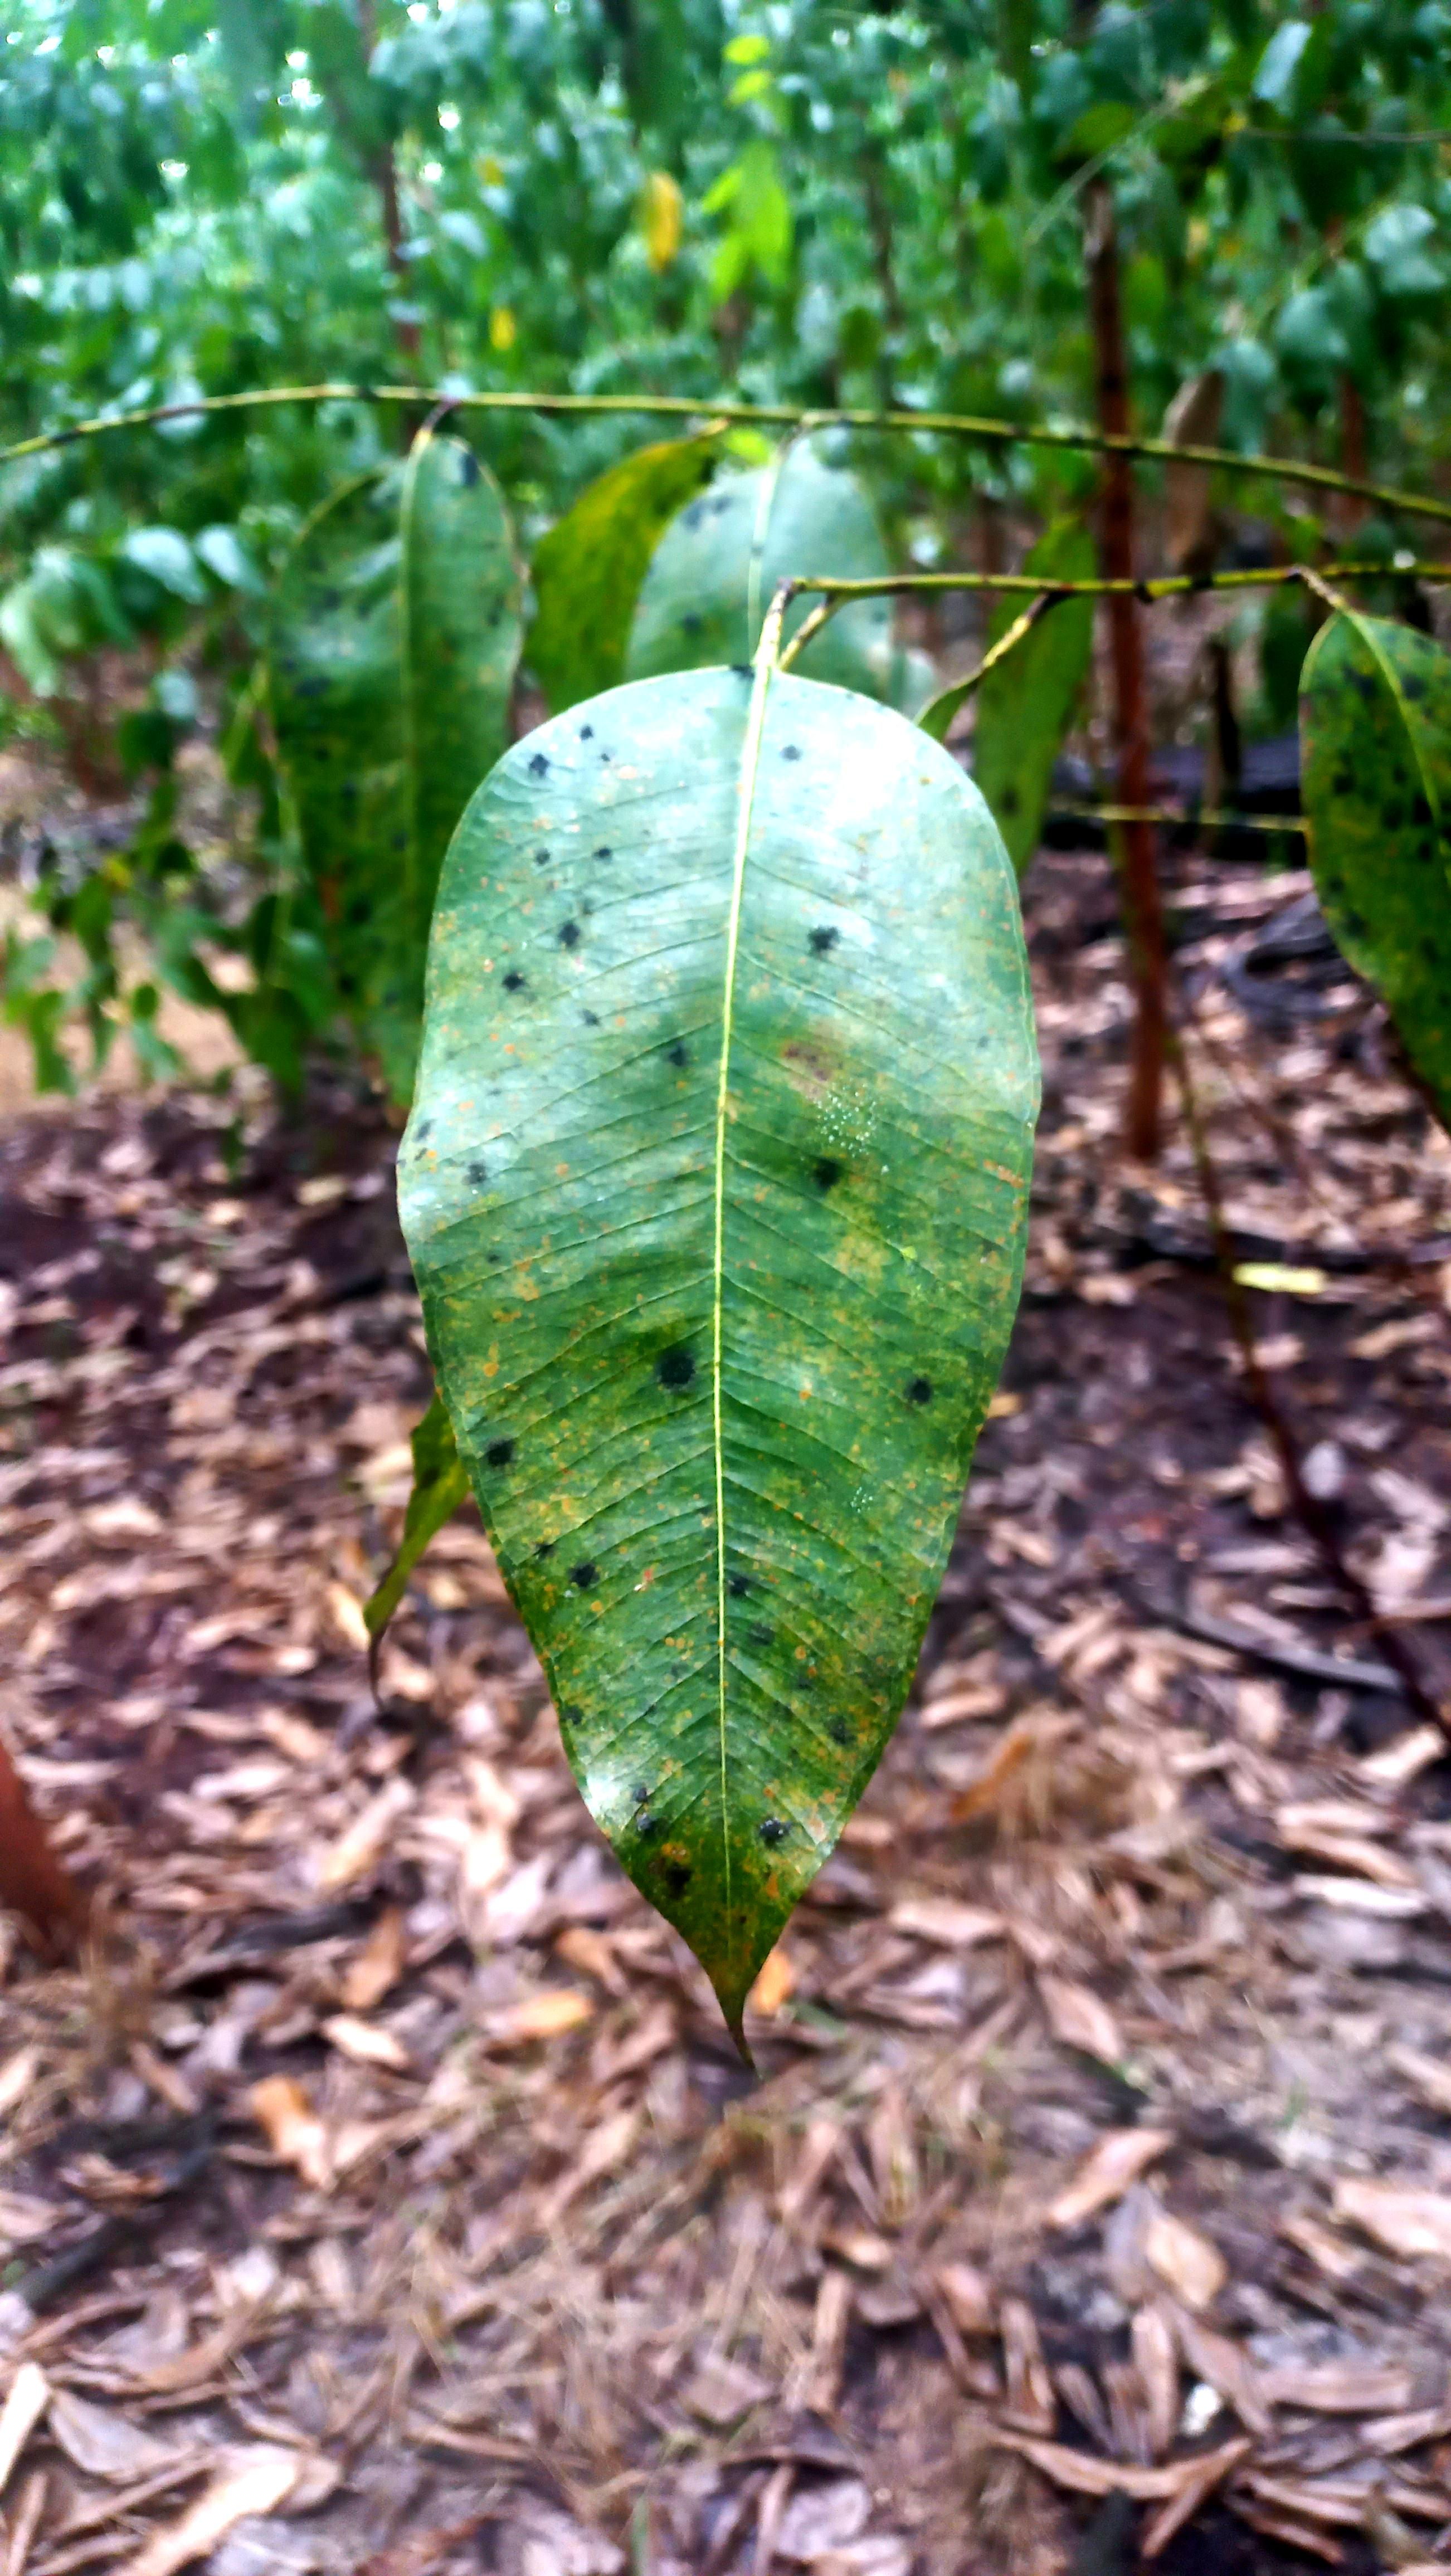Embun Jelaga: (388, 660, 1055, 2105), (1272, 607, 1451, 1100)
